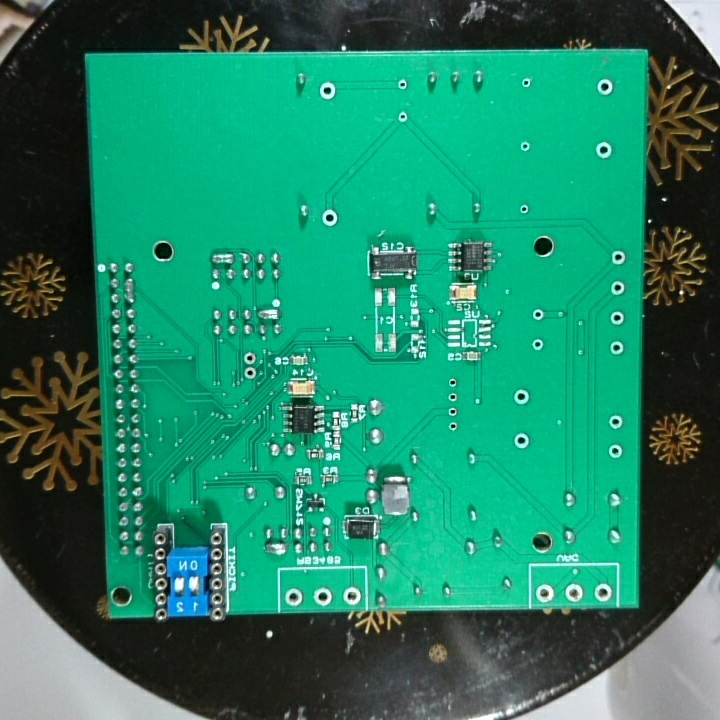F: (591, 580, 614, 603), (311, 586, 334, 609), (319, 206, 342, 229), (594, 75, 617, 98), (593, 138, 615, 162), (511, 429, 532, 454), (562, 581, 585, 603), (282, 586, 304, 609), (317, 80, 339, 103), (341, 585, 363, 607), (534, 583, 556, 604), (607, 307, 628, 329), (606, 338, 627, 360), (605, 413, 627, 434), (511, 386, 534, 406), (609, 246, 628, 269), (605, 442, 625, 461), (529, 306, 548, 324), (517, 75, 535, 92), (529, 335, 546, 353), (609, 279, 625, 298), (393, 78, 411, 94), (444, 403, 462, 419), (517, 202, 534, 218), (242, 365, 257, 383), (395, 109, 410, 127), (241, 350, 257, 366), (445, 374, 462, 389), (445, 389, 461, 404), (517, 138, 531, 155), (445, 418, 459, 434)
P: (262, 539, 289, 558), (254, 305, 282, 323), (208, 251, 237, 268), (122, 276, 137, 305)
